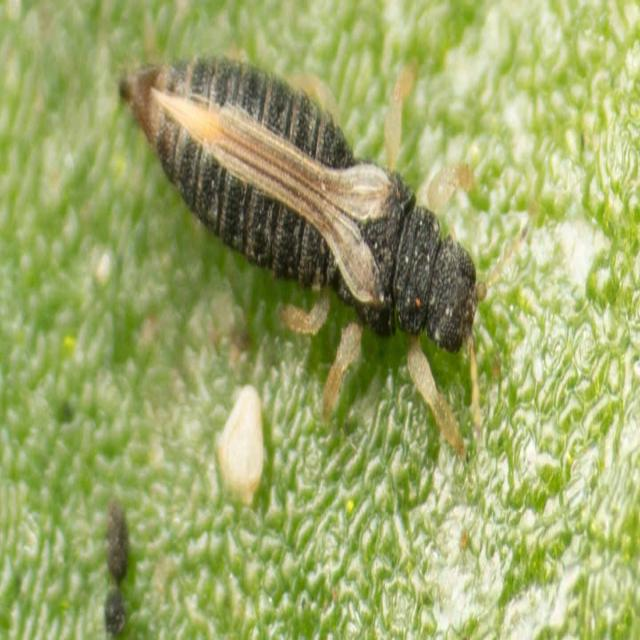Thrip-Adult-: (108, 37, 476, 430)
